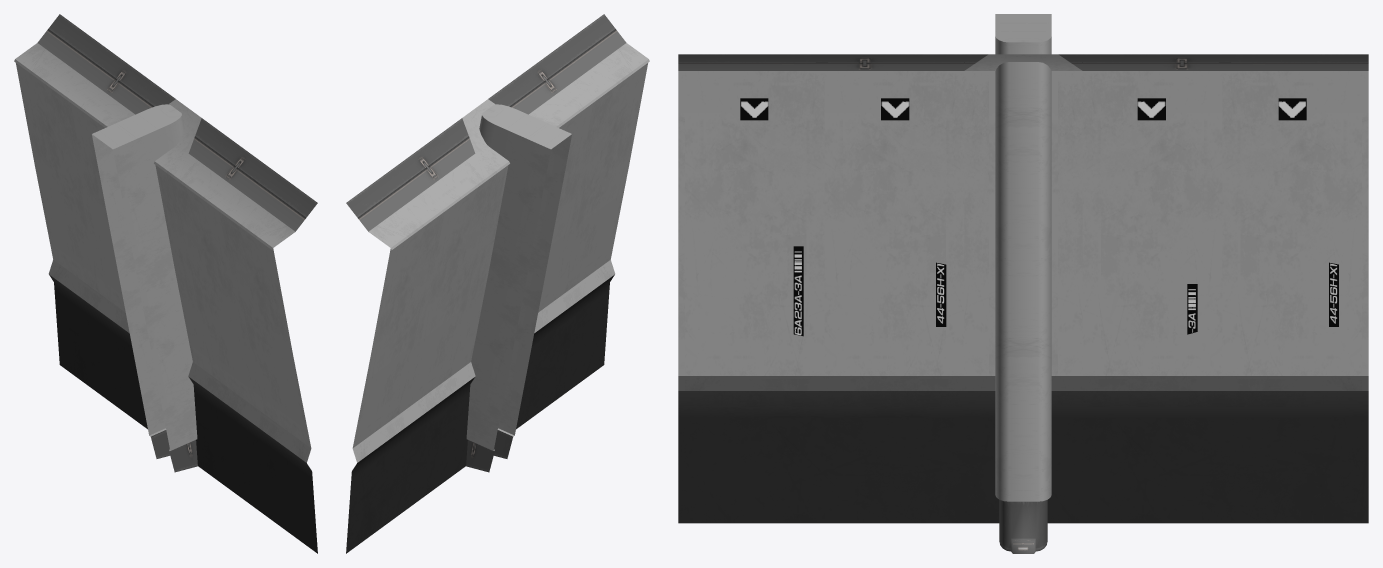
Rendered from S_WallAstraStraightDivided.gltf.
3 views of the same model, side by side, from view 1: azimuth 30°, elevation 25°; view 2: azimuth 150°, elevation 25°; view 3: azimuth 270°, elevation 25° (orthographic). The views are drawn at different scales.
Parts seen in each view (by area): view 1: Plane_121-col; view 2: Plane_121-col; view 3: Plane_121-col.
Boxes of the visible parts, x1=… form: Plane_121-col: x1=14, y1=14, x2=317, y2=553; Plane_121-col: x1=346, y1=14, x2=649, y2=553; Plane_121-col: x1=678, y1=14, x2=1368, y2=553.
Bounding box in the file's own units: 1.21 × 3.03 × 4.
5 materials, 5 textured.
